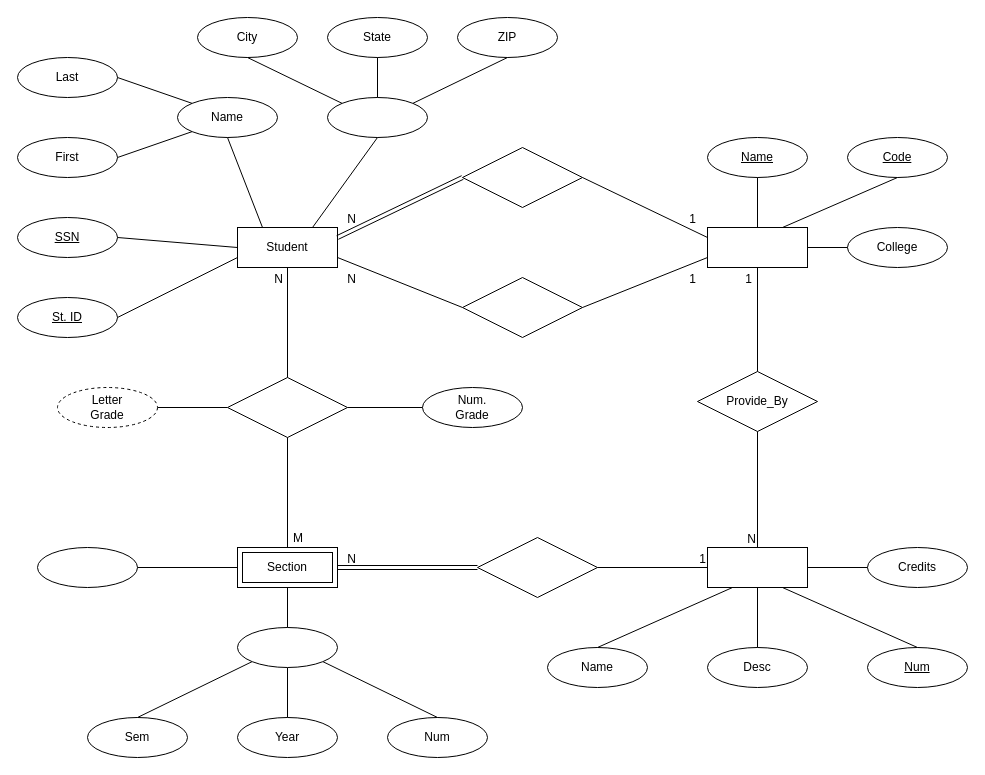
Some shapes in this 985 by 775 pixel diagram are drawn without their labels. The shapes that lost their labels are listed below. From the top down, each one's box as (x1, y1, x2, y2) in pixels, then its label:
(326, 96, 428, 138): Perm Addr
(462, 146, 582, 208): Major
(706, 226, 808, 268): Dept.
(462, 276, 582, 338): Minor
(226, 376, 348, 438): Takes
(36, 546, 138, 588): Instr
(476, 536, 598, 598): S-C
(706, 546, 808, 588): Course
(236, 626, 338, 668): ID
